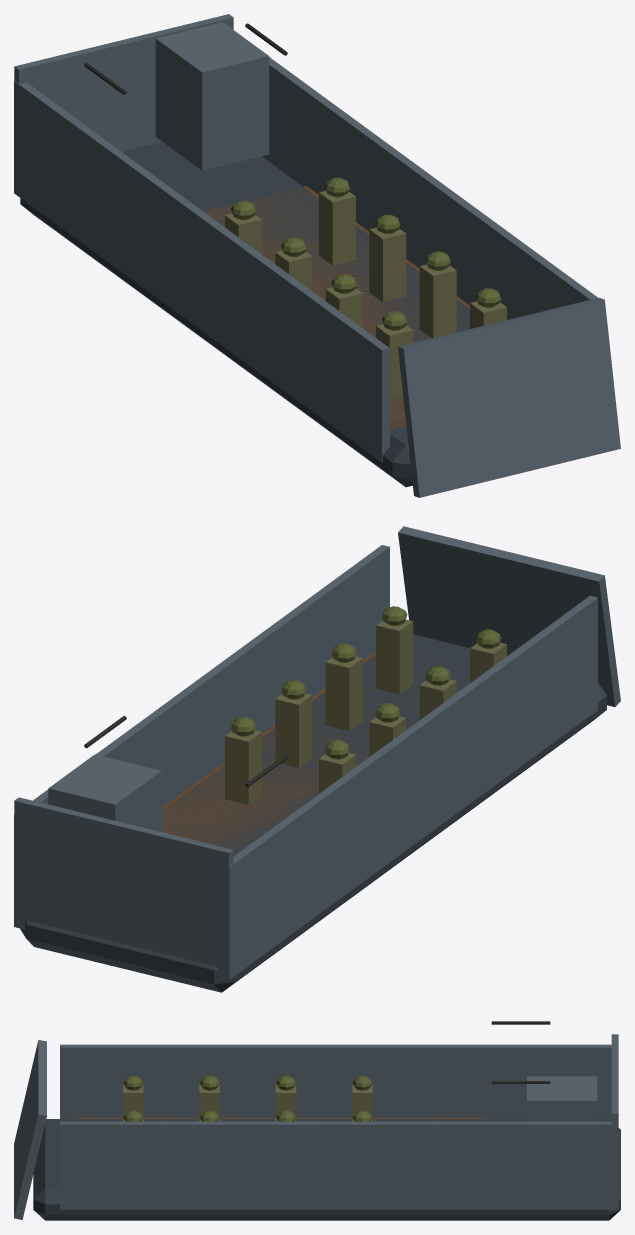
The model's file is higgins.glb.
3 views of the same model, one above another, from view 1: azimuth 30°, elevation 25°; view 2: azimuth 150°, elevation 25°; view 3: azimuth 270°, elevation 25° (orthographic). The views are drawn at different scales.
Parts seen in each view (by area): view 1: Navio.002; view 2: Navio.002; view 3: Navio.002.
Boxes of the visible parts, x1=… form: Navio.002: x1=14, y1=14, x2=620, y2=497; Navio.002: x1=14, y1=526, x2=620, y2=992; Navio.002: x1=14, y1=1021, x2=620, y2=1220.
Size of the model in its own units: 3.22 by 2.53 by 10.33.
